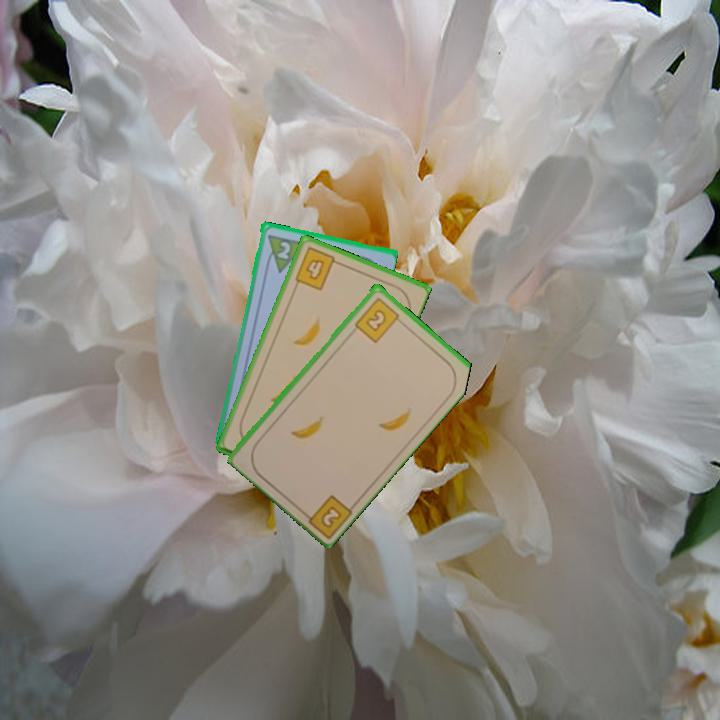2b: (351, 293, 406, 345), (297, 491, 355, 539)
2p: (261, 231, 307, 275)
4b: (291, 243, 343, 293)
